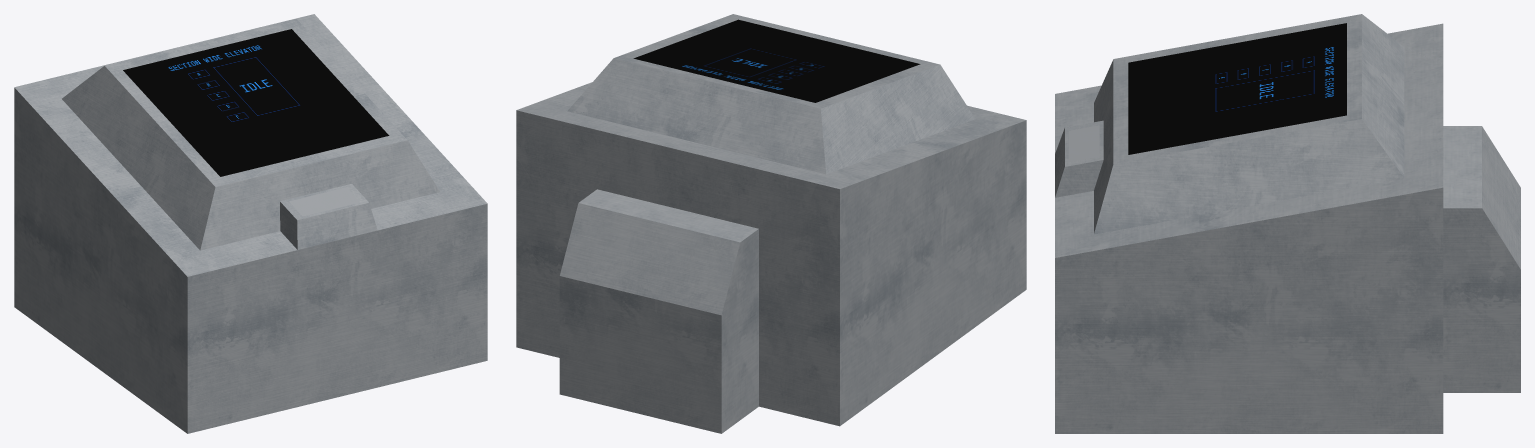
Rendered from Console-Type-1-Top.obj.
3 views of the same model, side by side, from view 1: azimuth 30°, elevation 25°; view 2: azimuth 150°, elevation 25°; view 3: azimuth 270°, elevation 25° (orthographic). The views are drawn at different scales.
Parts seen in each view (by area): view 1: Console-Type-1-Top; view 2: Console-Type-1-Top; view 3: Console-Type-1-Top.
Part boxes in pixels (x1,y1,x2,y2): Console-Type-1-Top: [14, 14, 487, 433]; Console-Type-1-Top: [516, 14, 1026, 433]; Console-Type-1-Top: [1055, 14, 1520, 433].
Size of the model in its own units: 1 by 0.8111 by 1.2.
